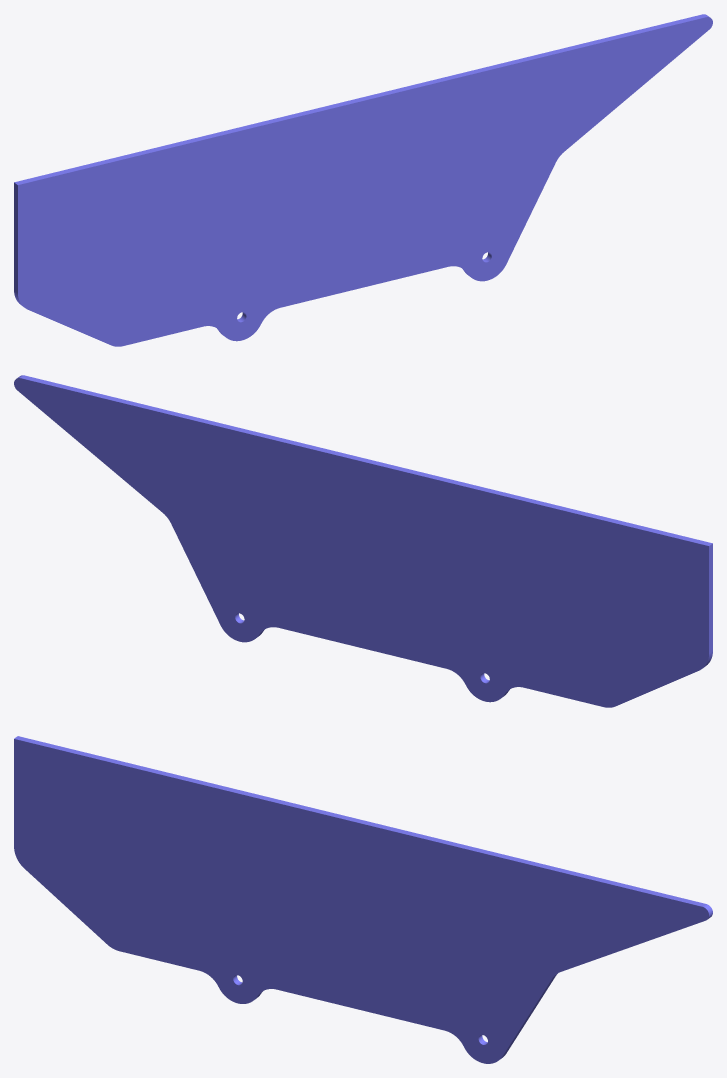
The model's file is Exc_CoverBracket.obj.
3 views of the same model, one above another, from view 1: azimuth 30°, elevation 25°; view 2: azimuth 150°, elevation 25°; view 3: azimuth 330°, elevation 25° (orthographic).
Parts seen in each view (by area): view 1: mesh73, mesh81; view 2: mesh74, mesh81; view 3: mesh73, mesh81.
Boxes of the visible parts, <box> form: mesh73: <box>18,17,712,346</box>; mesh81: <box>14,14,705,184</box>; mesh74: <box>14,378,708,707</box>; mesh81: <box>21,375,712,545</box>; mesh73: <box>14,739,708,1063</box>; mesh81: <box>14,736,705,906</box>.
Size of the model in its own units: 0.3117 by 0.09 by 0.003.
